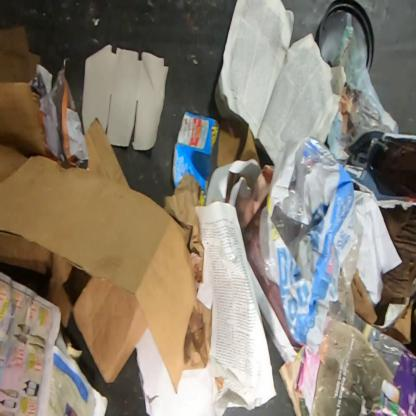cardboard: (0, 116, 213, 394), (81, 44, 169, 150), (72, 276, 148, 384), (0, 225, 74, 328), (0, 24, 53, 157), (172, 110, 219, 197), (378, 204, 415, 306), (216, 119, 261, 168), (381, 297, 415, 345), (351, 270, 378, 324)
rigid_plastic: (318, 0, 375, 74)
soft_plastic: (252, 134, 365, 364)
